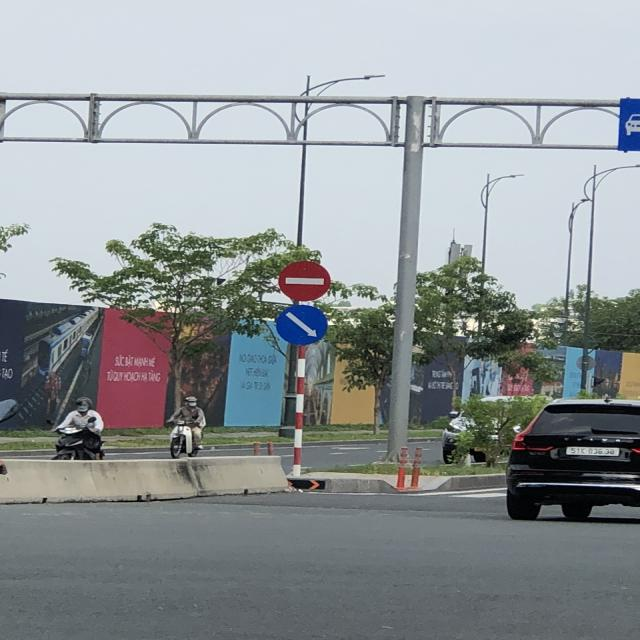Bien bao cam di nguoc chieu: (270, 253, 338, 304)
